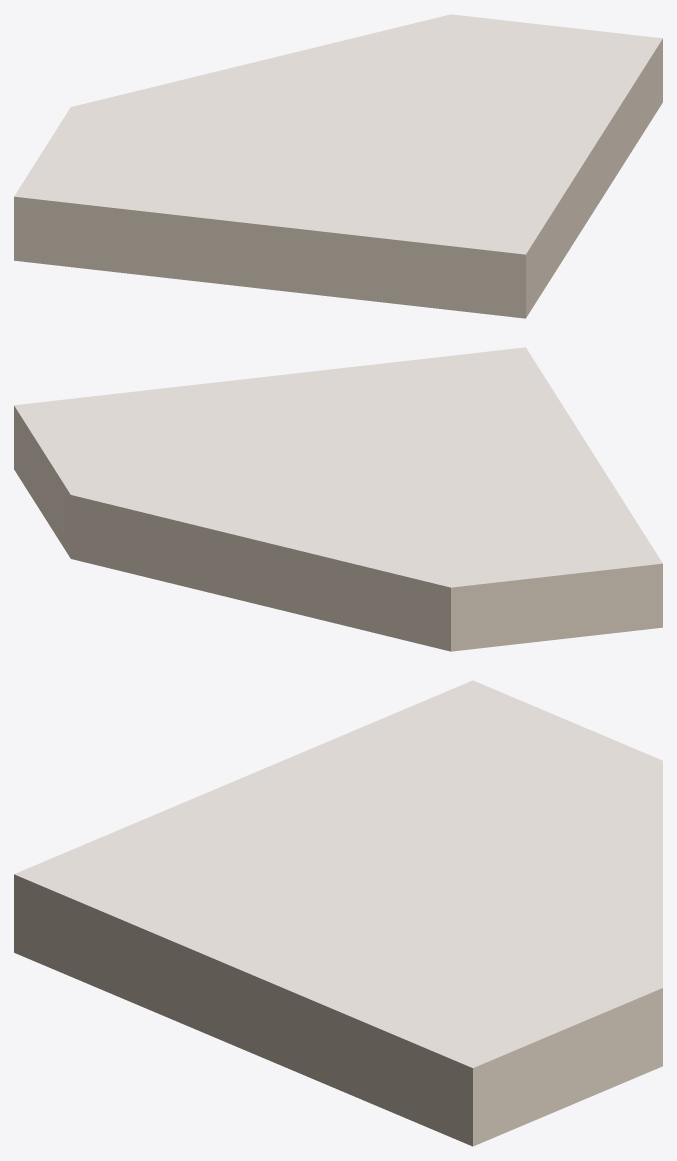
3 renders of one model, top to bottom at view 1: azimuth 30°, elevation 25°; view 2: azimuth 150°, elevation 25°; view 3: azimuth 270°, elevation 25°, orthographic. The views are drawn at different scales.
Parts seen in each view (by area): view 1: object1; view 2: object1; view 3: object1.
Part boxes in pixels (x1,y1,x2,y2): object1: [14, 14, 662, 318]; object1: [14, 347, 662, 651]; object1: [14, 680, 662, 1146].
Bounding box in the file's own units: 2.12 × 0.2 × 1.5.
